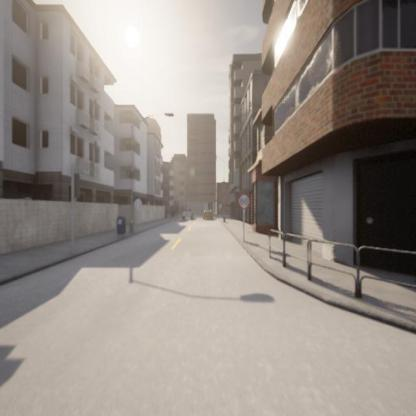traffic_sign_60: (239, 194, 250, 209)
